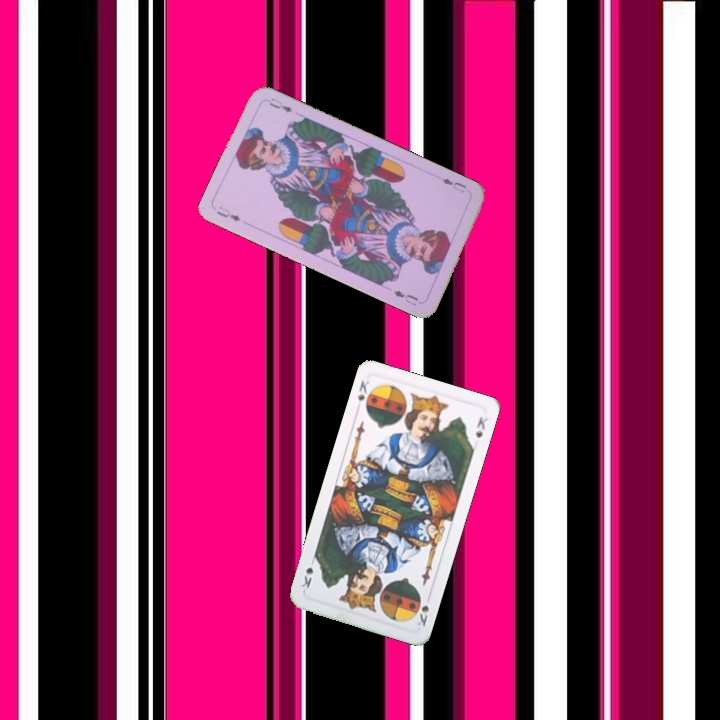EU: (212, 202, 243, 224), (438, 174, 469, 195)
SK: (352, 376, 375, 414), (413, 601, 432, 629)
